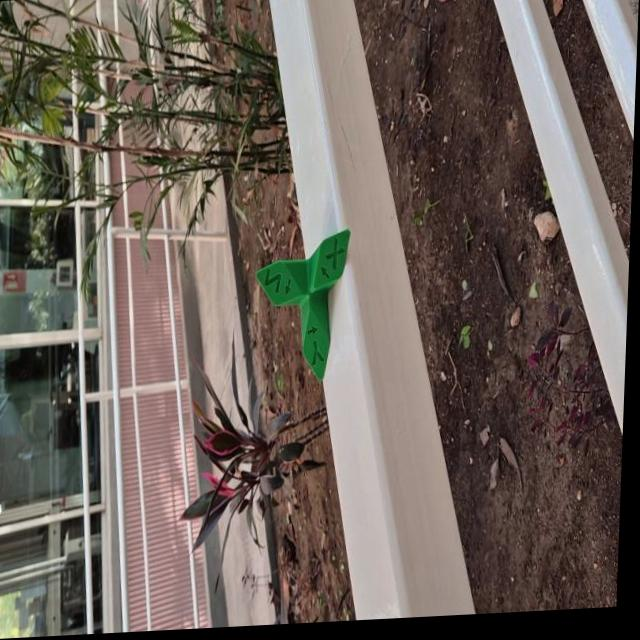eje: (250, 225, 351, 386)
